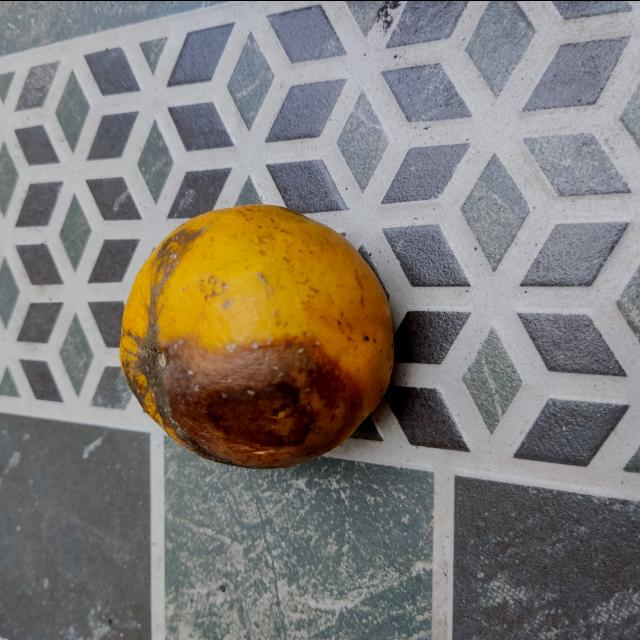orange: (120, 200, 394, 470)
